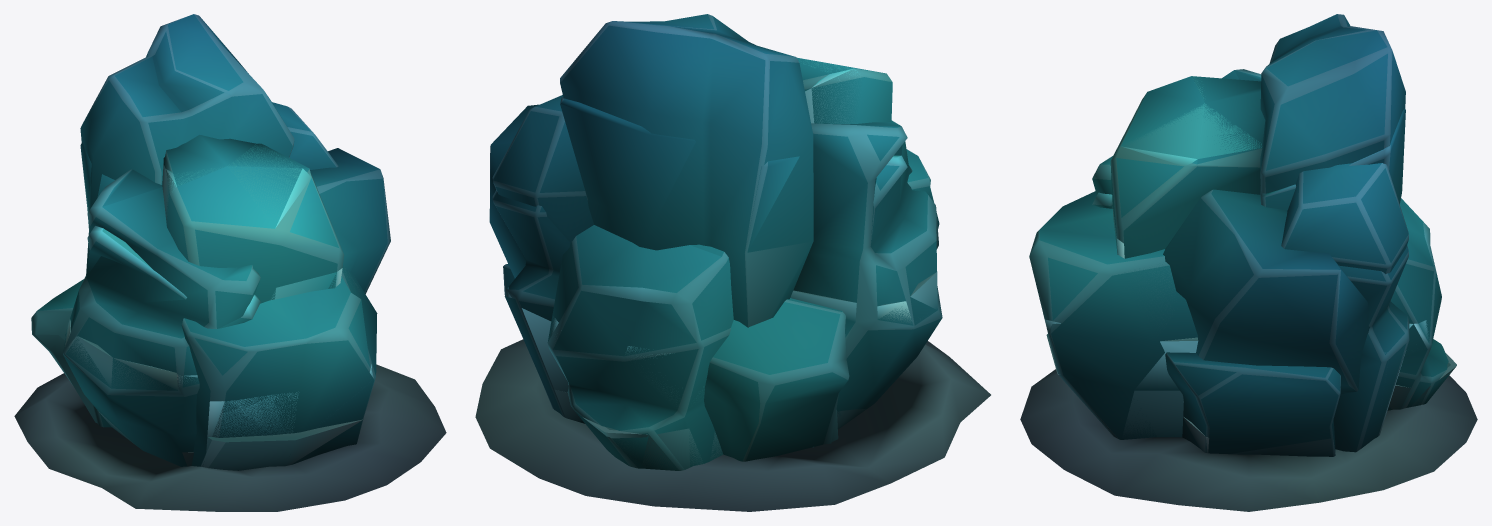
The model's file is Stone_V1_0.fbx.
3 renders of one model, left to right at view 1: azimuth 30°, elevation 25°; view 2: azimuth 150°, elevation 25°; view 3: azimuth 270°, elevation 25°, orthographic. The views are drawn at different scales.
Visible parts, largest first — view 1: Stone_V1_0, Stone_V1_2, Stone_V1_1, Stone_V1_3; view 2: Stone_V1_0, Stone_V1_1, Stone_V1_2, Stone_V1_3; view 3: Stone_V1_0, Stone_V1_1, Stone_V1_3, Stone_V1_2.
Boxes of the visible parts, <box> form: Stone_V1_0: <box>14,14,446,511</box>; Stone_V1_2: <box>63,268,374,449</box>; Stone_V1_1: <box>38,142,378,451</box>; Stone_V1_3: <box>98,411,362,470</box>; Stone_V1_0: <box>475,14,990,511</box>; Stone_V1_1: <box>492,58,907,466</box>; Stone_V1_2: <box>505,248,937,423</box>; Stone_V1_3: <box>554,389,866,470</box>; Stone_V1_0: <box>1020,14,1477,511</box>; Stone_V1_1: <box>1046,76,1426,392</box>; Stone_V1_3: <box>1046,334,1456,456</box>; Stone_V1_2: <box>1045,206,1429,436</box>.
Bounding box in the file's own units: 201 × 187 × 202.
